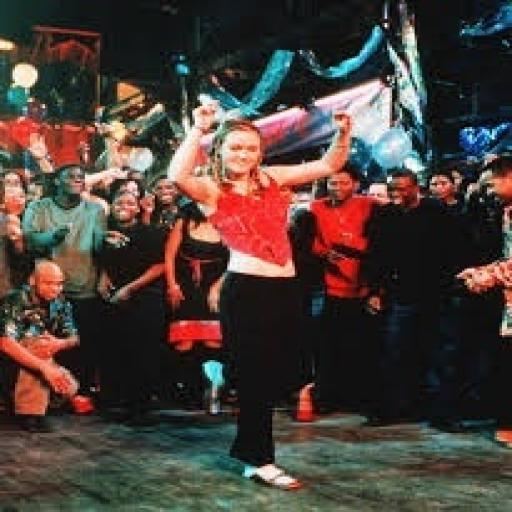dancing: (164, 100, 360, 493)
